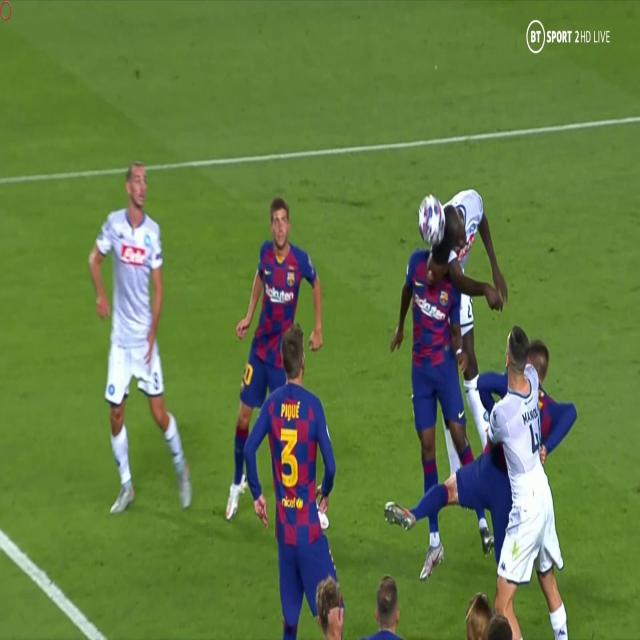ball: (411, 191, 448, 245)
player: (384, 343, 578, 592), (81, 154, 195, 514), (244, 321, 357, 638), (215, 188, 318, 517), (483, 316, 587, 632), (425, 185, 507, 566), (393, 223, 462, 605)
